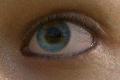eye: (36, 20, 71, 52)
